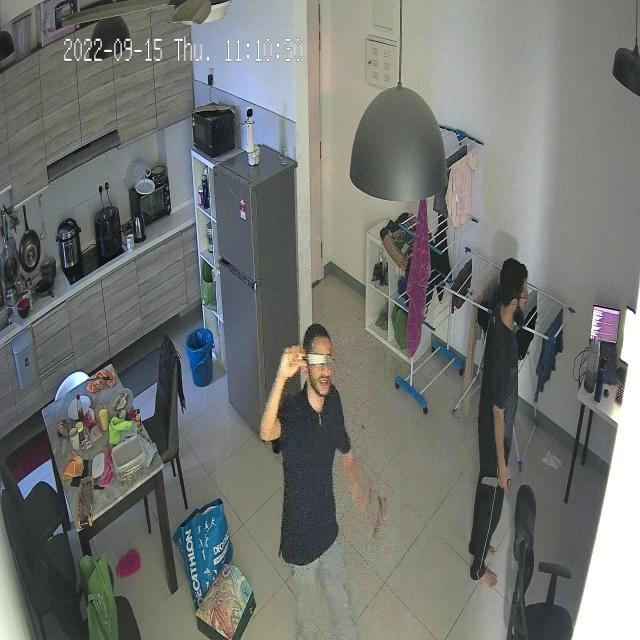Knife: (280, 343, 334, 367), (474, 472, 518, 498)
